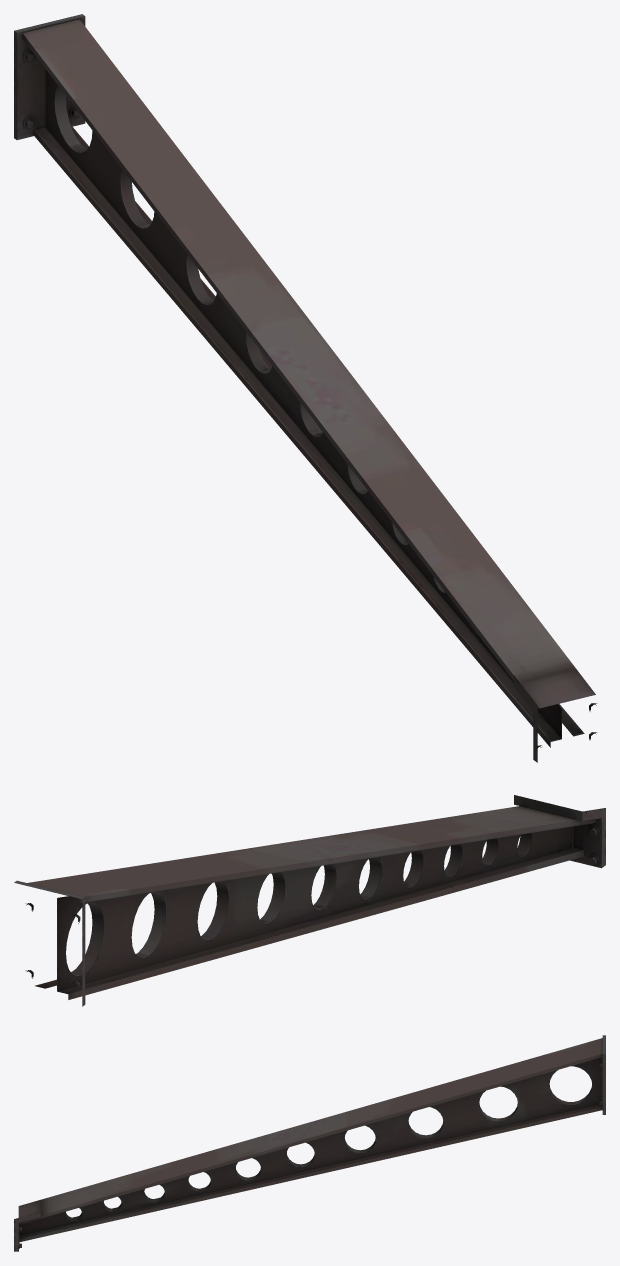
3 views of the same model, one above another, from view 1: azimuth 30°, elevation 25°; view 2: azimuth 150°, elevation 25°; view 3: azimuth 270°, elevation 25° (orthographic). The views are drawn at different scales.
Visible parts, largest first — view 1: body0_model0_lod0_mesh0; view 2: body0_model0_lod0_mesh0; view 3: body0_model0_lod0_mesh0.
Part boxes in pixels (box(x1,y1,x2,y2)): body0_model0_lod0_mesh0: box(14, 14, 597, 762); body0_model0_lod0_mesh0: box(14, 795, 605, 1006); body0_model0_lod0_mesh0: box(14, 1035, 605, 1251).
Bounding box in the file's own units: 24.01 × 117 × 318.
Materials: 1 (1 with a texture image).
